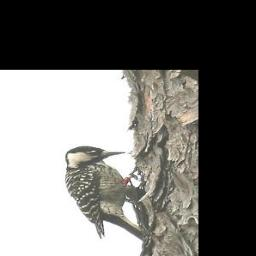Woodpecker: (64, 146, 149, 241)
